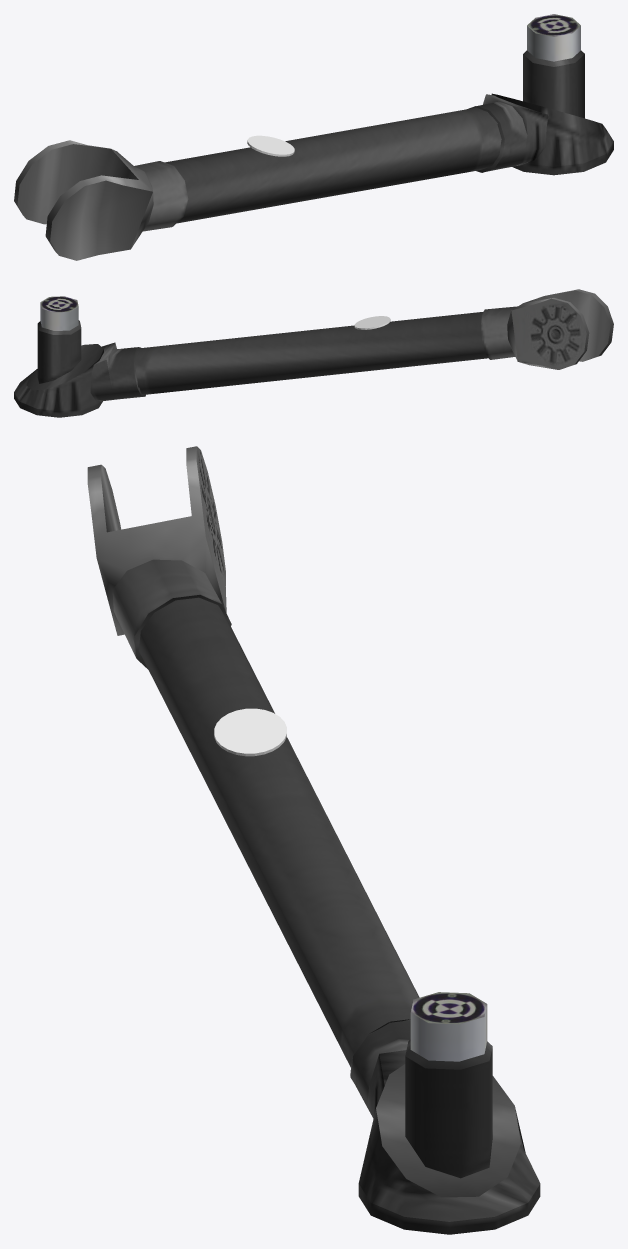
Rendered from rocker_front_left_link.dae.
3 renders of one model, top to bottom at view 1: azimuth 30°, elevation 25°; view 2: azimuth 150°, elevation 25°; view 3: azimuth 270°, elevation 25°, orthographic. The views are drawn at different scales.
Visible parts, largest first — view 1: rocker_front_left_link; view 2: rocker_front_left_link; view 3: rocker_front_left_link.
Part boxes in pixels (x1,y1,x2,y2): rocker_front_left_link: [14, 14, 613, 260]; rocker_front_left_link: [14, 289, 613, 417]; rocker_front_left_link: [87, 446, 540, 1234].
Bounding box in the file's own units: 1.02 × 0.3961 × 0.3054.
Materials: 2 (1 with a texture image).
